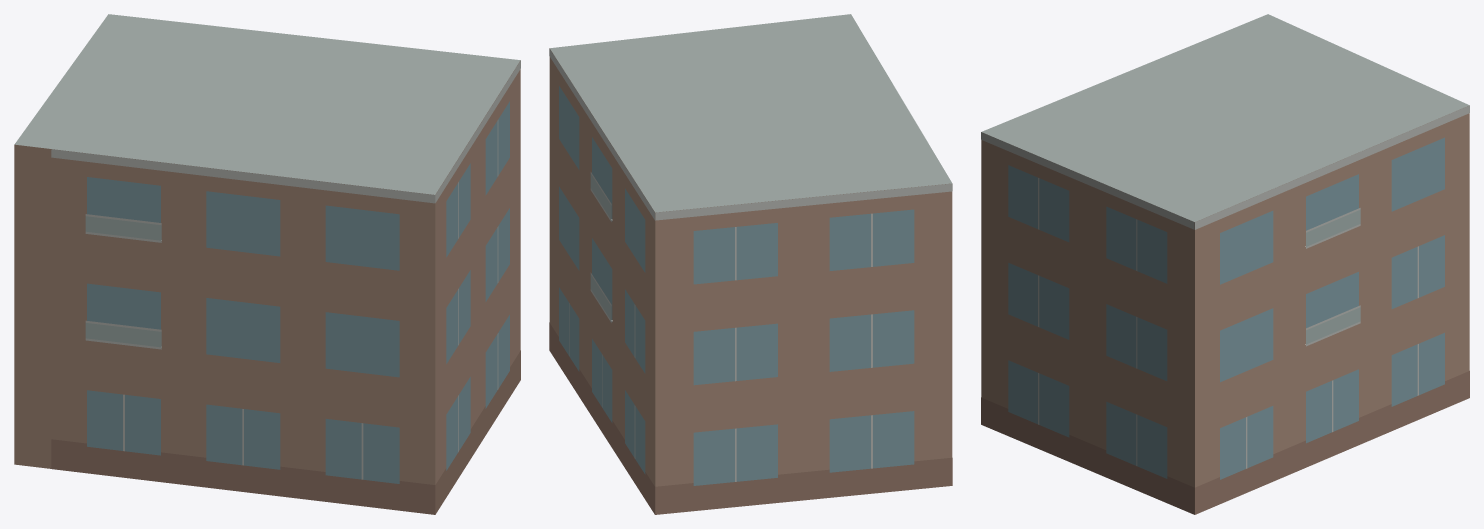
File: survey-upis-32918343.glb
3 views of the same model, side by side, from view 1: azimuth 30°, elevation 25°; view 2: azimuth 150°, elevation 25°; view 3: azimuth 270°, elevation 25° (orthographic). The views are drawn at different scales.
Parts seen in each view (by area): view 1: survey-upis-32918343.tmp; view 2: survey-upis-32918343.tmp; view 3: survey-upis-32918343.tmp.
Part boxes in pixels (bbox=[...]): survey-upis-32918343.tmp: bbox=[14, 14, 520, 514]; survey-upis-32918343.tmp: bbox=[549, 14, 952, 514]; survey-upis-32918343.tmp: bbox=[981, 14, 1469, 514].
Bounding box in the file's own units: 13.96 × 9.15 × 13.85.
